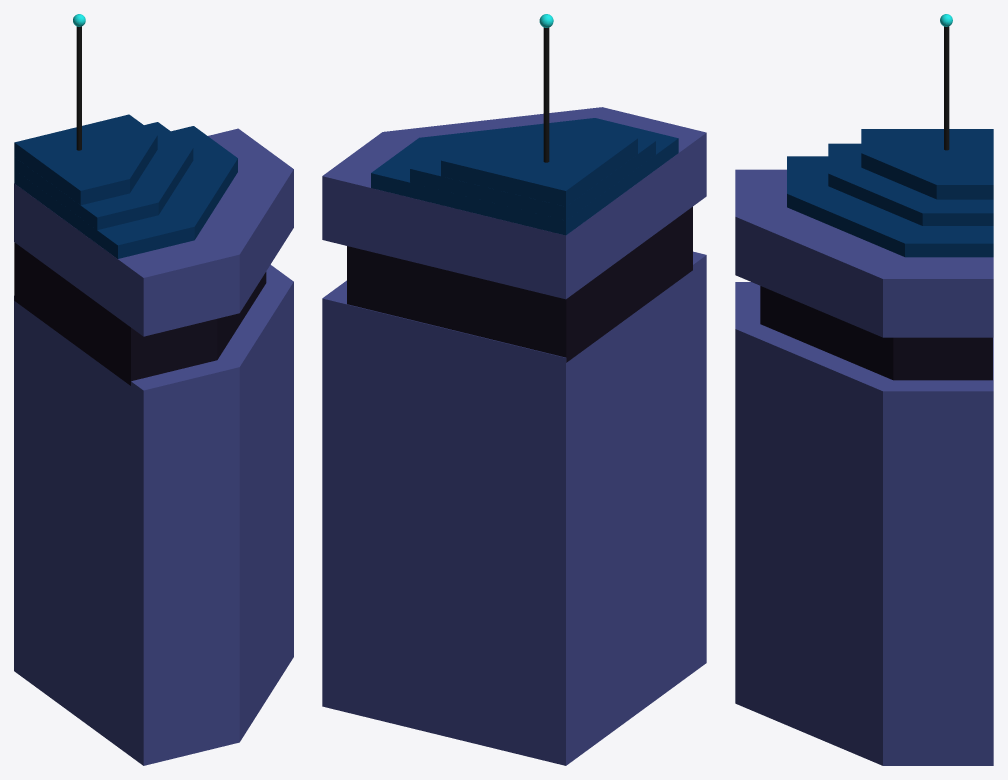
The model's file is Building7.fbx.
3 views of the same model, side by side, from view 1: azimuth 30°, elevation 25°; view 2: azimuth 150°, elevation 25°; view 3: azimuth 270°, elevation 25° (orthographic). The views are drawn at different scales.
Visible parts, largest first — view 1: Cube.003, Cube.004, Cube.001, Cube.002, Cube.006, Cube.005, Cylinder; view 2: Cube.003, Cube.004, Cube.001, Cube.006, Cube.002, Cube.005, Cylinder; view 3: Cube.003, Cube.004, Cube.001, Cube.002, Cube.006, Cube.005, Cylinder.
Part boxes in pixels (left/top/right/bottom): Cube.003: left=14, top=264, right=293, bottom=765; Cube.004: left=14, top=128, right=293, bottom=336; Cube.001: left=14, top=242, right=266, bottom=385; Cube.002: left=14, top=126, right=237, bottom=258; Cube.006: left=14, top=114, right=157, bottom=205; Cube.005: left=14, top=122, right=193, bottom=230; Cylinder: left=76, top=26, right=81, bottom=150; Cube.003: left=322, top=251, right=706, bottom=765; Cube.004: left=322, top=107, right=706, bottom=299; Cube.001: left=347, top=206, right=692, bottom=362; Cube.006: left=441, top=125, right=637, bottom=206; Cube.002: left=371, top=118, right=678, bottom=235; Cube.005: left=410, top=124, right=655, bottom=220; Cylinder: left=543, top=27, right=549, bottom=162; Cube.003: left=735, top=282, right=993, bottom=765; Cube.004: left=735, top=169, right=993, bottom=337; Cube.001: left=760, top=286, right=992, bottom=380; Cube.002: left=787, top=156, right=993, bottom=257; Cube.006: left=861, top=129, right=993, bottom=199; Cube.005: left=828, top=143, right=993, bottom=225; Cylinder: left=944, top=26, right=949, bottom=150.
Size of the model in its own units: 800 by 2262 by 800.
